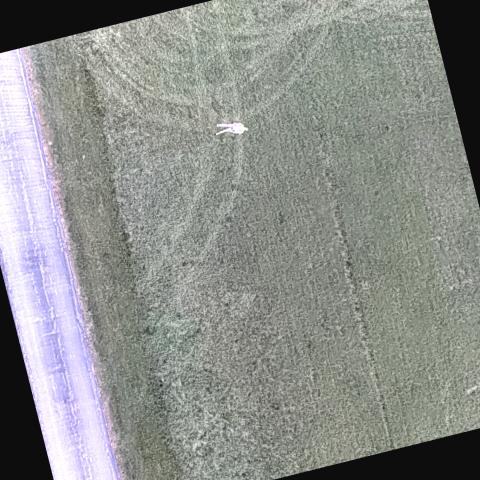person: (210, 116, 250, 143)
